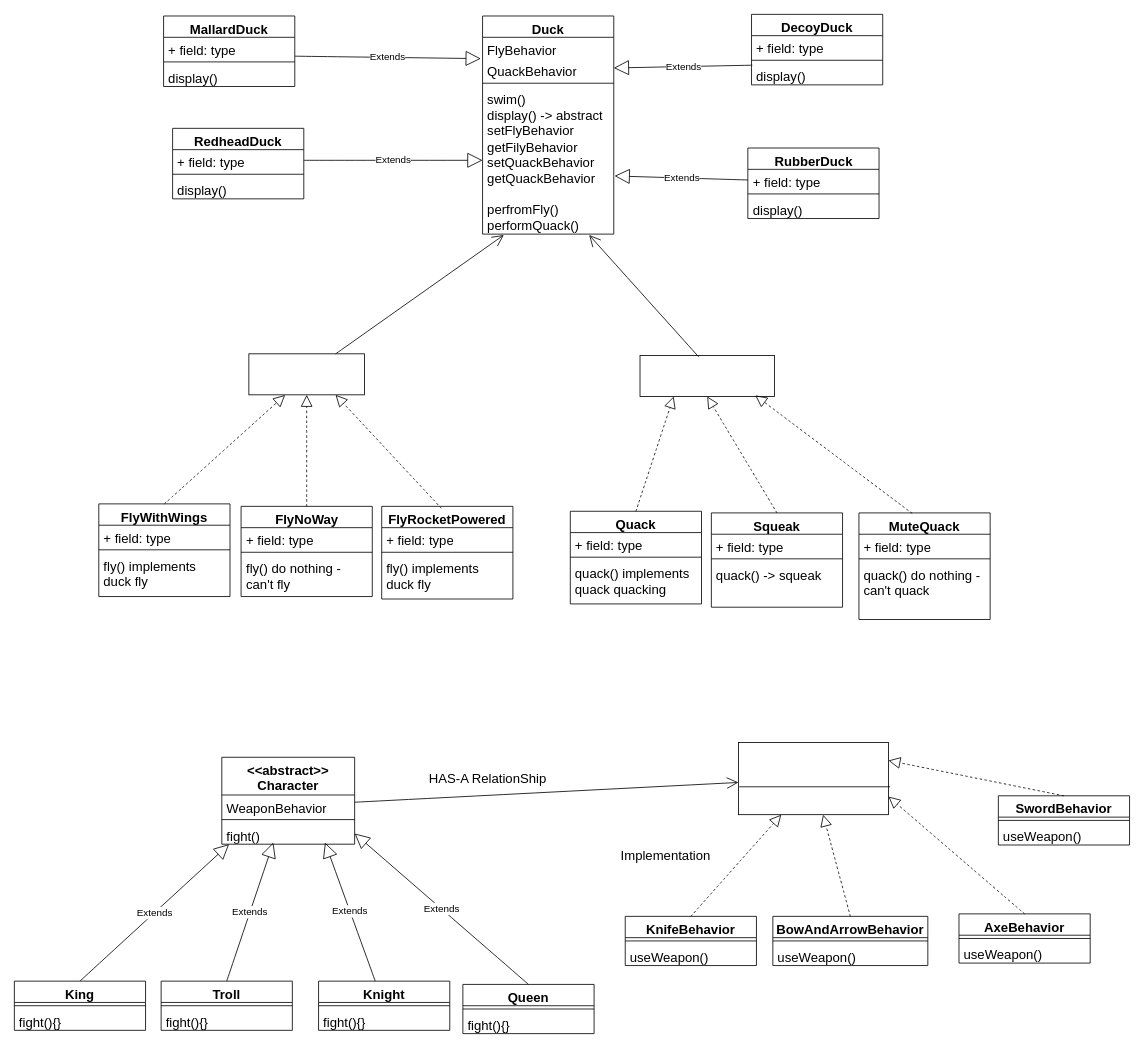
Image size: 1144x1050. Some labels were removed from this diagram. Each missing label, with the centre of its shape:
"«interface» FlyBehavior" belongs at (306,374).
"«interface» QuackBehavior" belongs at (706,375).
"«interface» WeaponBehavior useWeapon()" belongs at (813,778).
